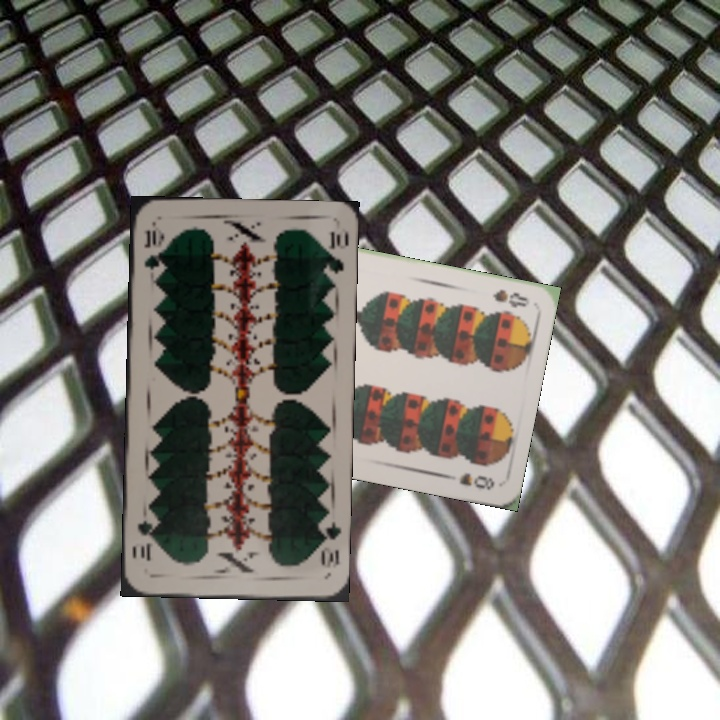G10: (315, 516, 342, 571), (139, 226, 164, 272)
S8: (489, 285, 532, 311)
